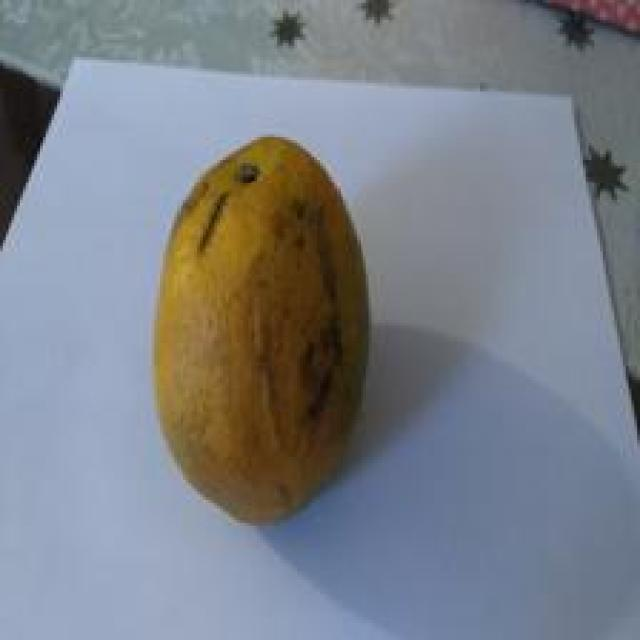overripe: (148, 127, 373, 530)
